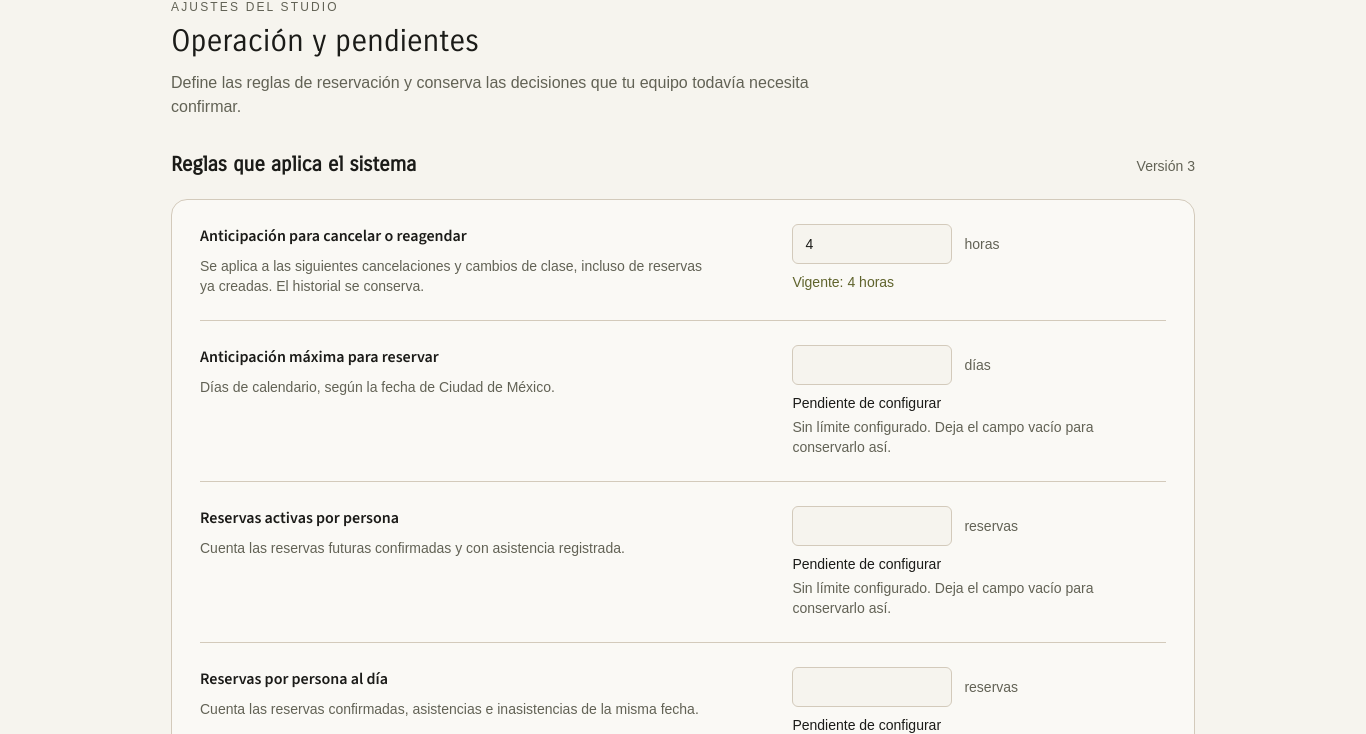
Test: persists explicit rules and administrative notes with the loaded version, never activation flags
This screenshot has width=1366, height=734.
Step 1. Replace the text in the number field labelled "Anticipación para cancelar o reagendar" with "6" → (872, 244), box [792,224,952,264]
(page scrolled)
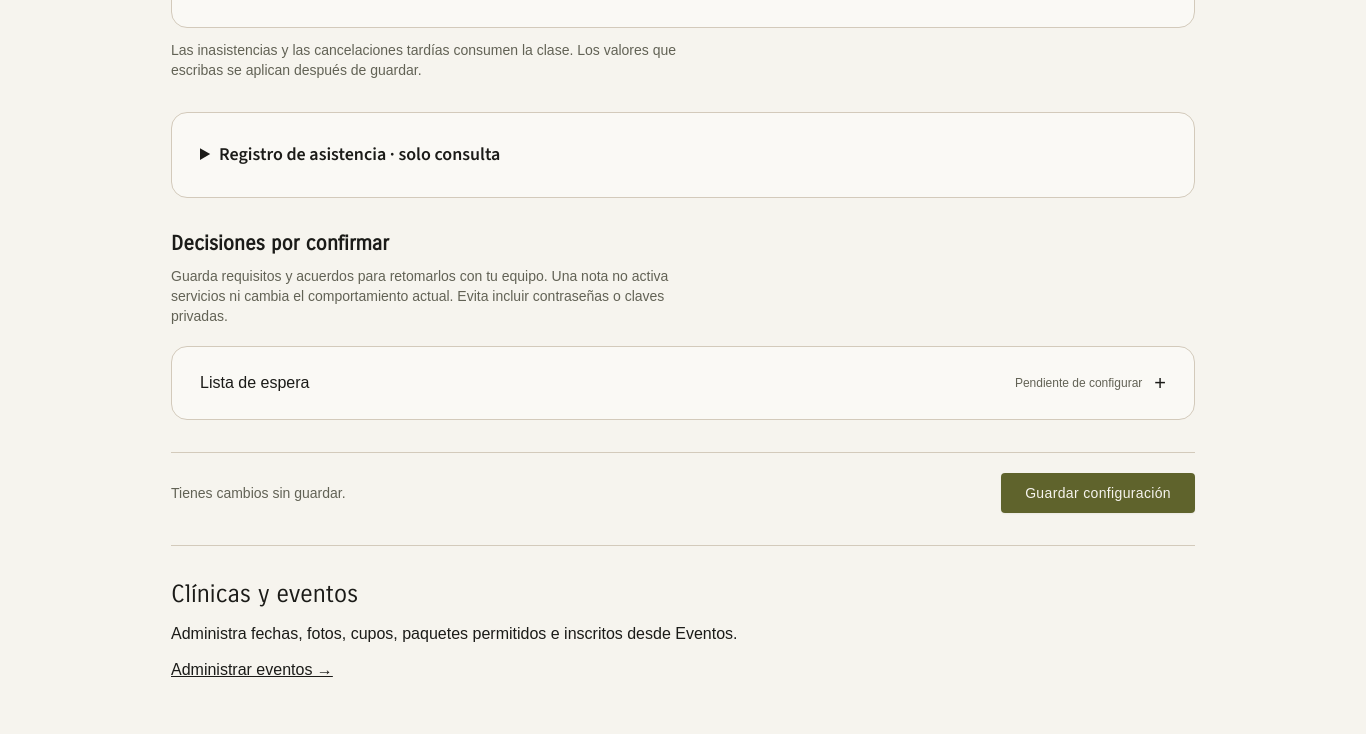
Step 2. Click the text "Lista de espera" → (255, 383), box [200,371,309,395]
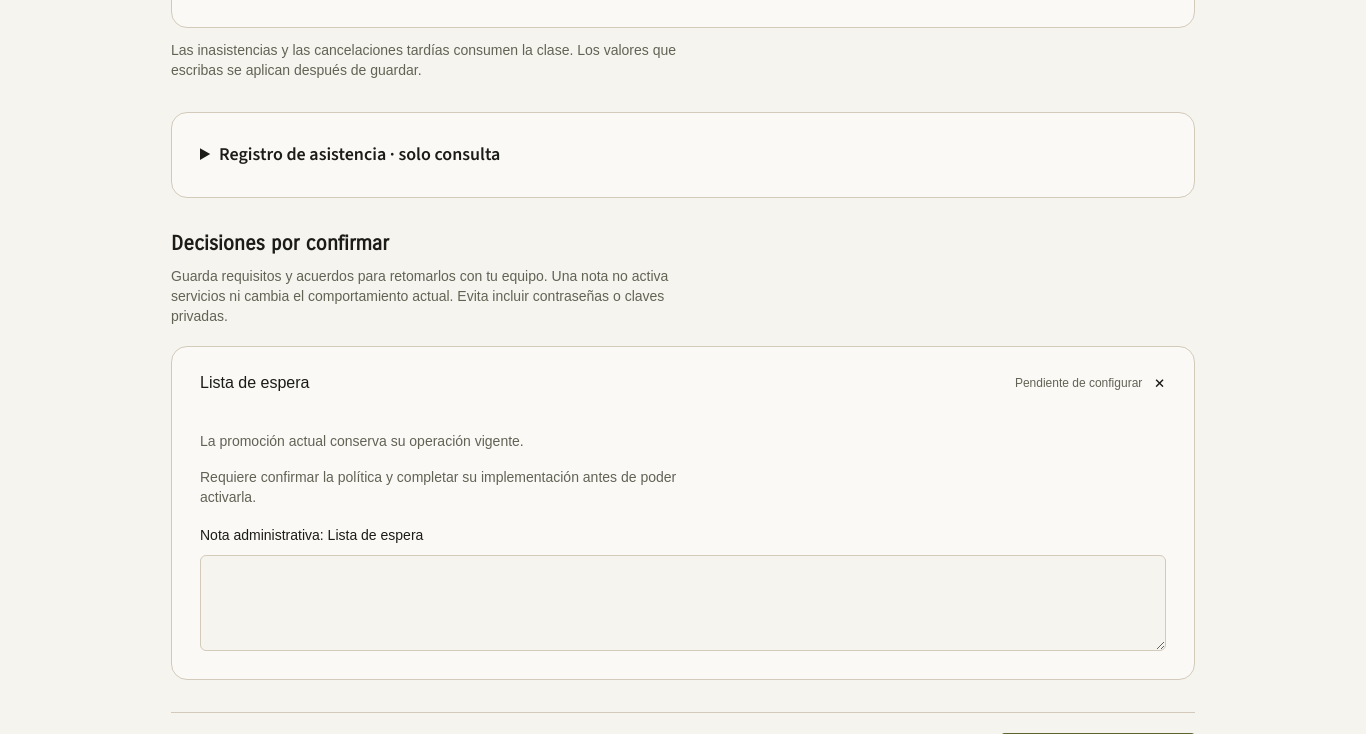
Step 3. Type "Confirmar con el equipo el orden de promoción." into the text box labelled "Nota administrativa: Lista de espera" → (683, 603), box [200,555,1166,651]
(page scrolled)
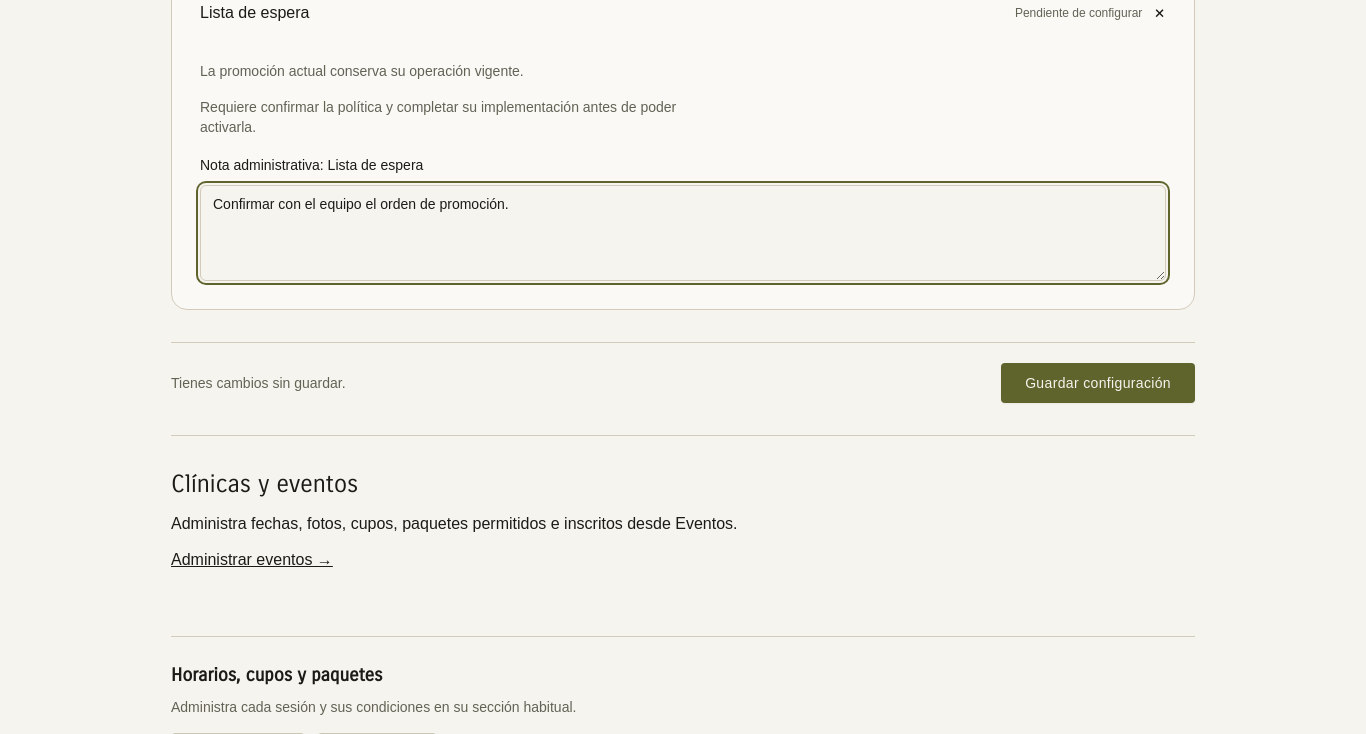
Step 4. Click the button "Guardar configuración" → (1098, 383), box [1001,363,1195,403]
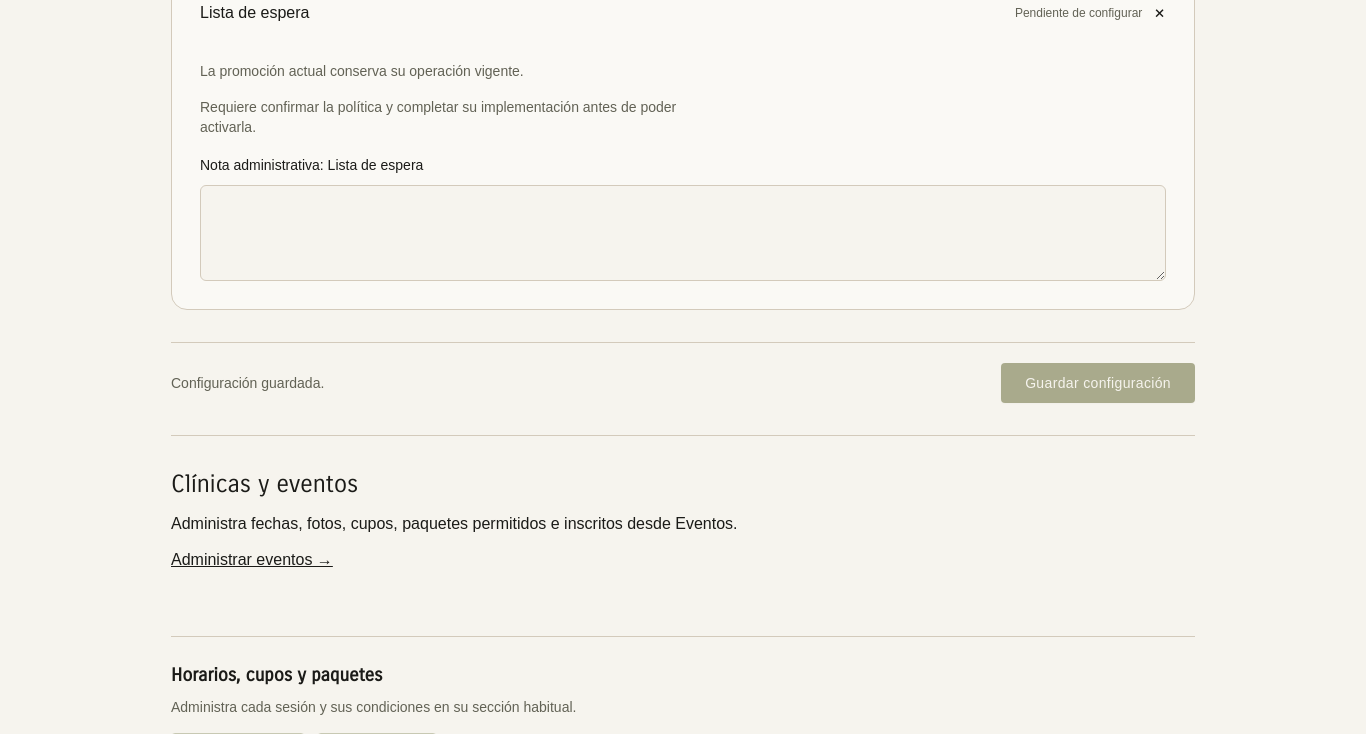
Expected: the text "Configuración guardada." is shown, [171,373,324,393]
